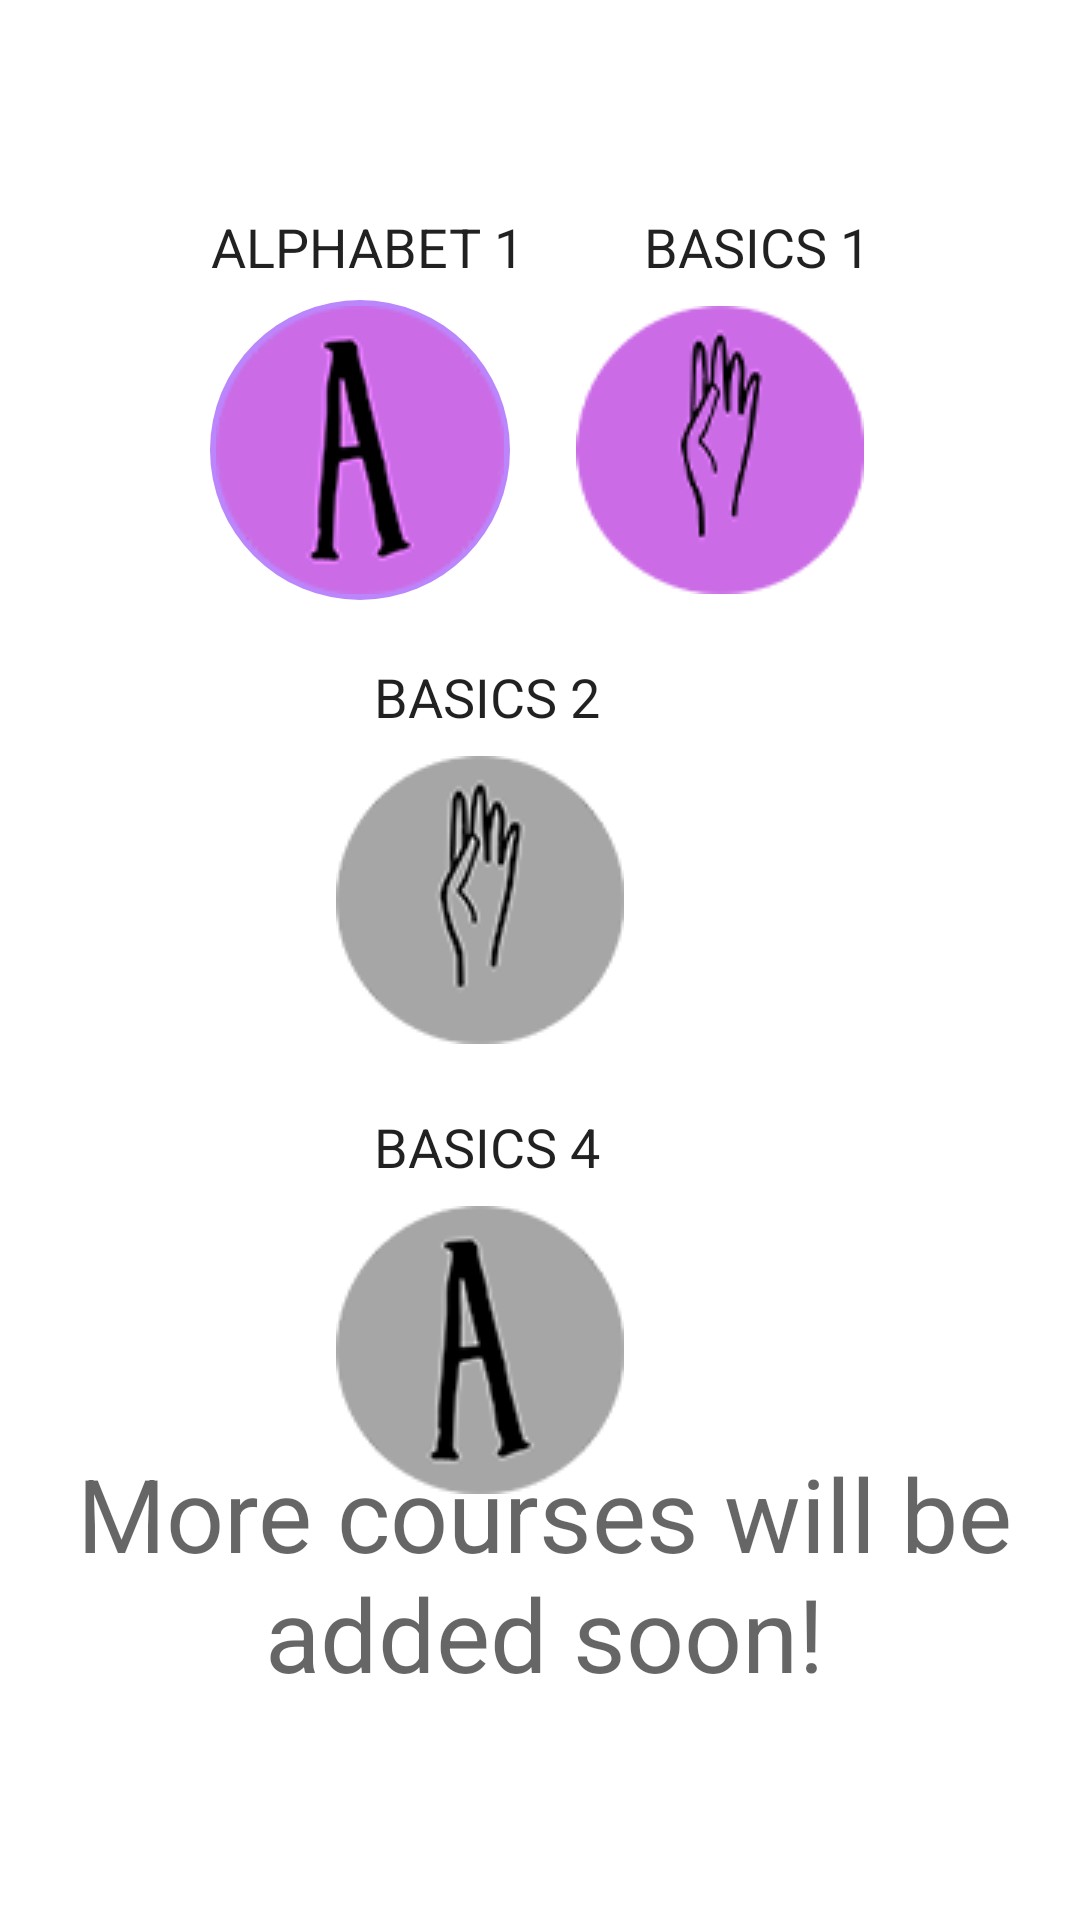

Icons on this 1080px×1920px Android screen, each with the point to tap as [x,y]:
gesture: [720,450], [480,900]
